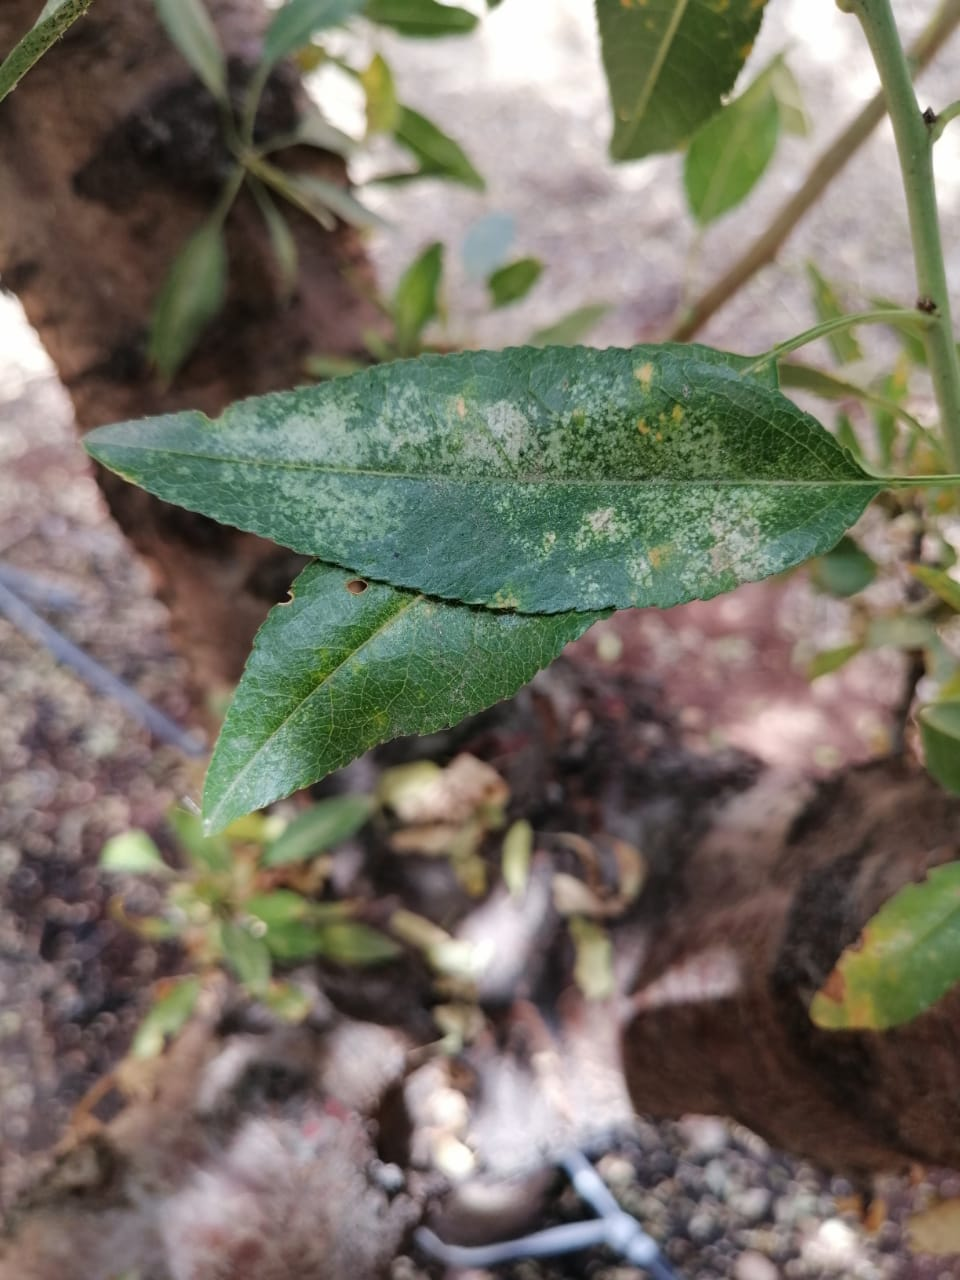faux tigre: (78, 337, 884, 615)
